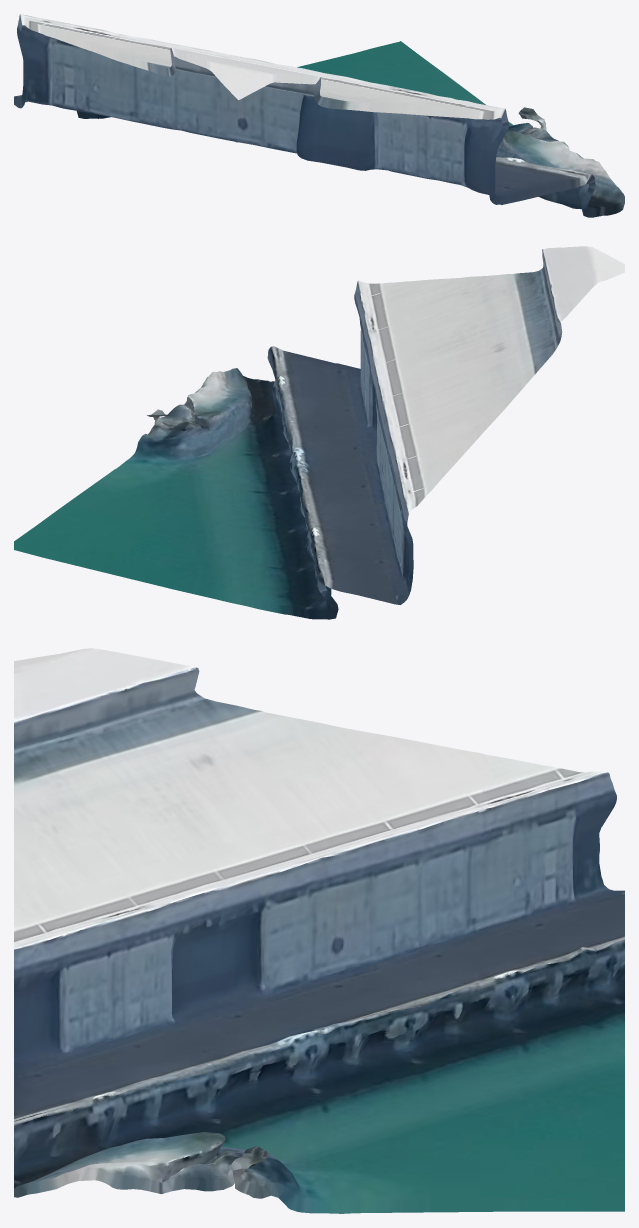
File: z20-167775-405196-h0-yup-uvflip-v3-world.glb
The picture shows the model from 3 angles, top to bottom: view 1: azimuth 30°, elevation 25°; view 2: azimuth 150°, elevation 25°; view 3: azimuth 270°, elevation 25°; orthographic projection. The views are drawn at different scales.
Size of the model in its own units: 30.16 by 16.92 by 30.32.
1 material, 1 textured.
